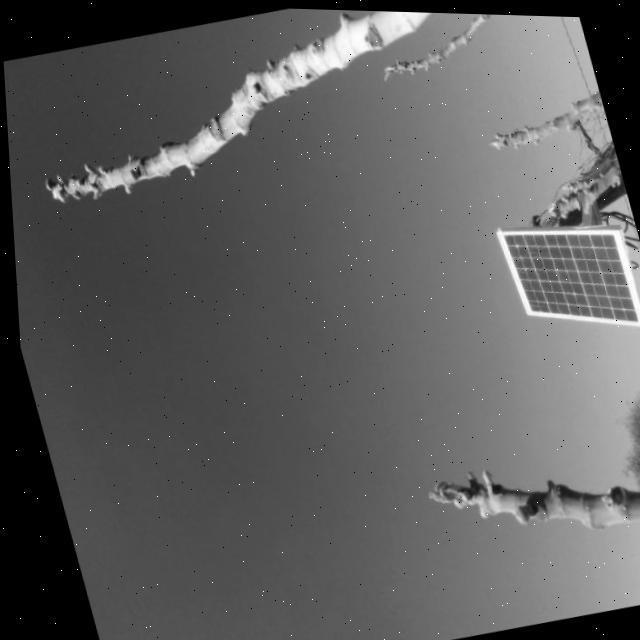Normal Solar Panel: (492, 203, 640, 347)
